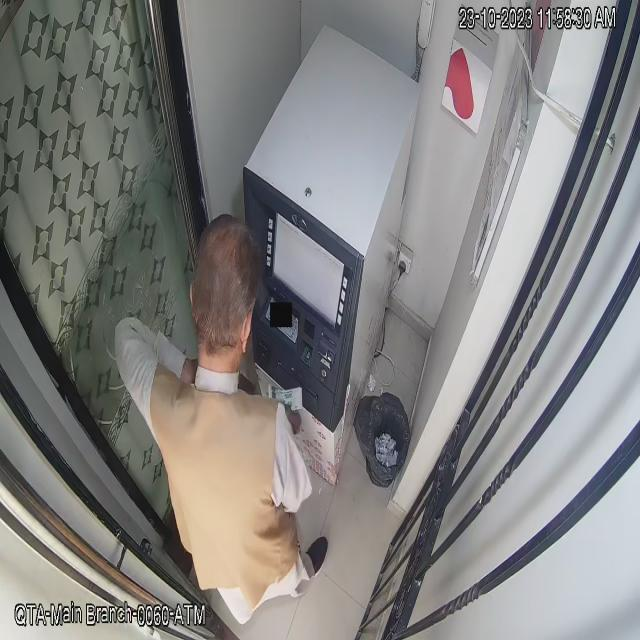note: (266, 379, 306, 414)
